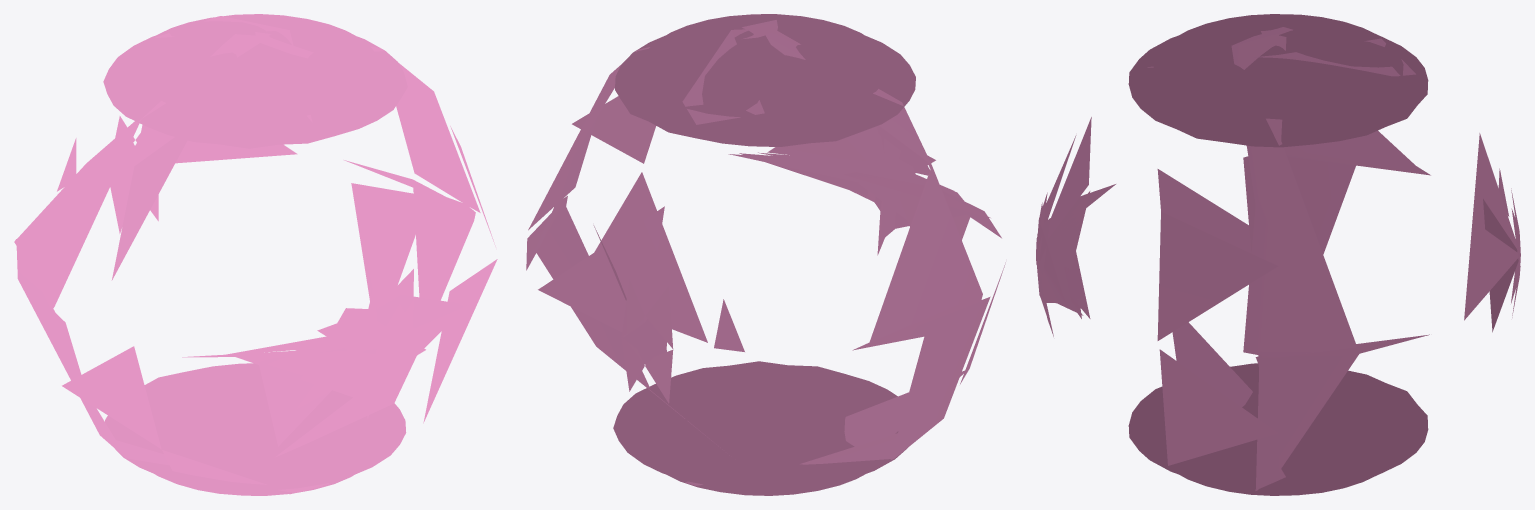
Rendered from sys-md-safety.glb.
The picture shows the model from 3 angles, left to right: view 1: azimuth 30°, elevation 25°; view 2: azimuth 150°, elevation 25°; view 3: azimuth 270°, elevation 25°; orthographic projection.
Visible parts, largest first — view 1: TS-md-safety-1720; view 2: TS-md-safety-1720; view 3: TS-md-safety-1720.
Part boxes in pixels (x1,y1,x2,y2): TS-md-safety-1720: (14, 14, 497, 495); TS-md-safety-1720: (526, 14, 1005, 495); TS-md-safety-1720: (1036, 14, 1520, 495).
Bounding box in the file's own units: 2 × 2 × 2.
